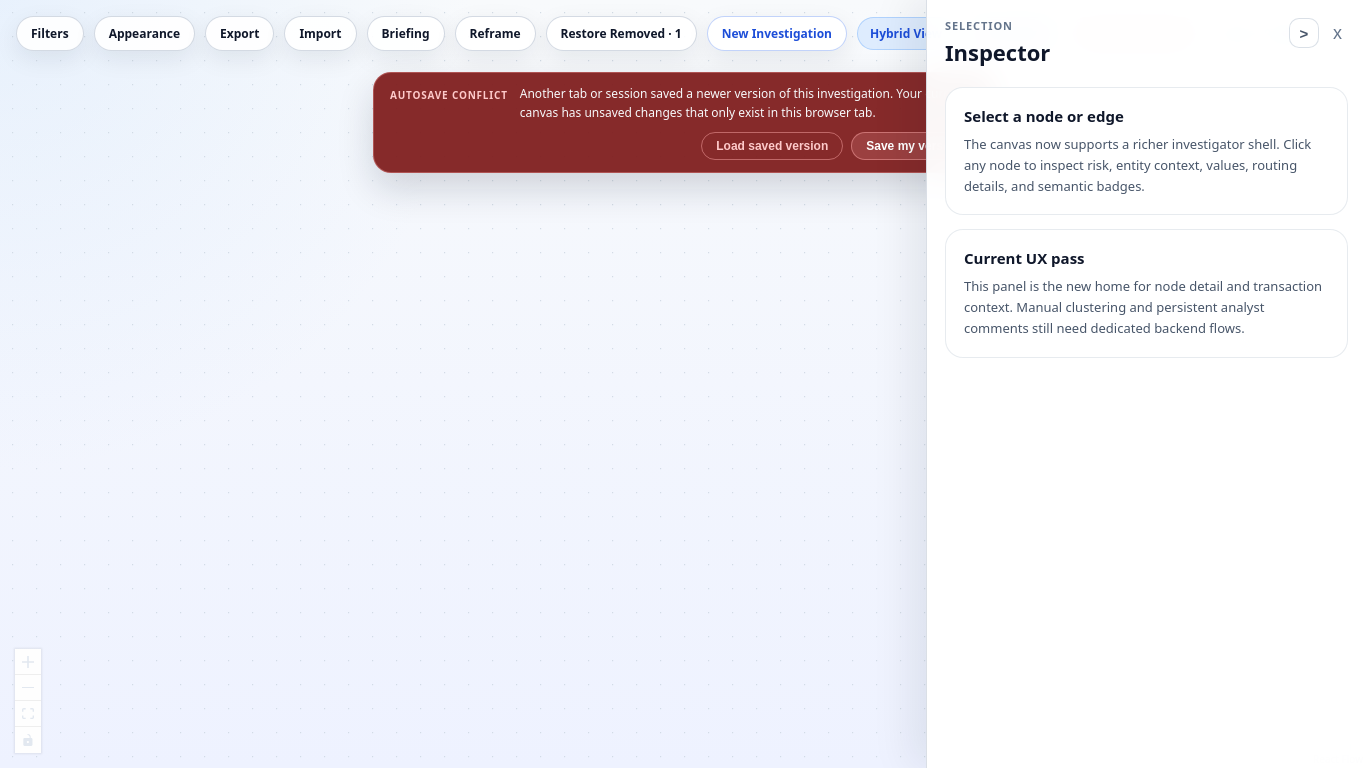
Test: InvestigationGraph backend autosave › recovers via force-save: fetches server revision, saves current state, and resumes autosave
Click the button "Save my version" at {"x": 914, "y": 146}, box [851,132,976,160]
Wait 350 ms
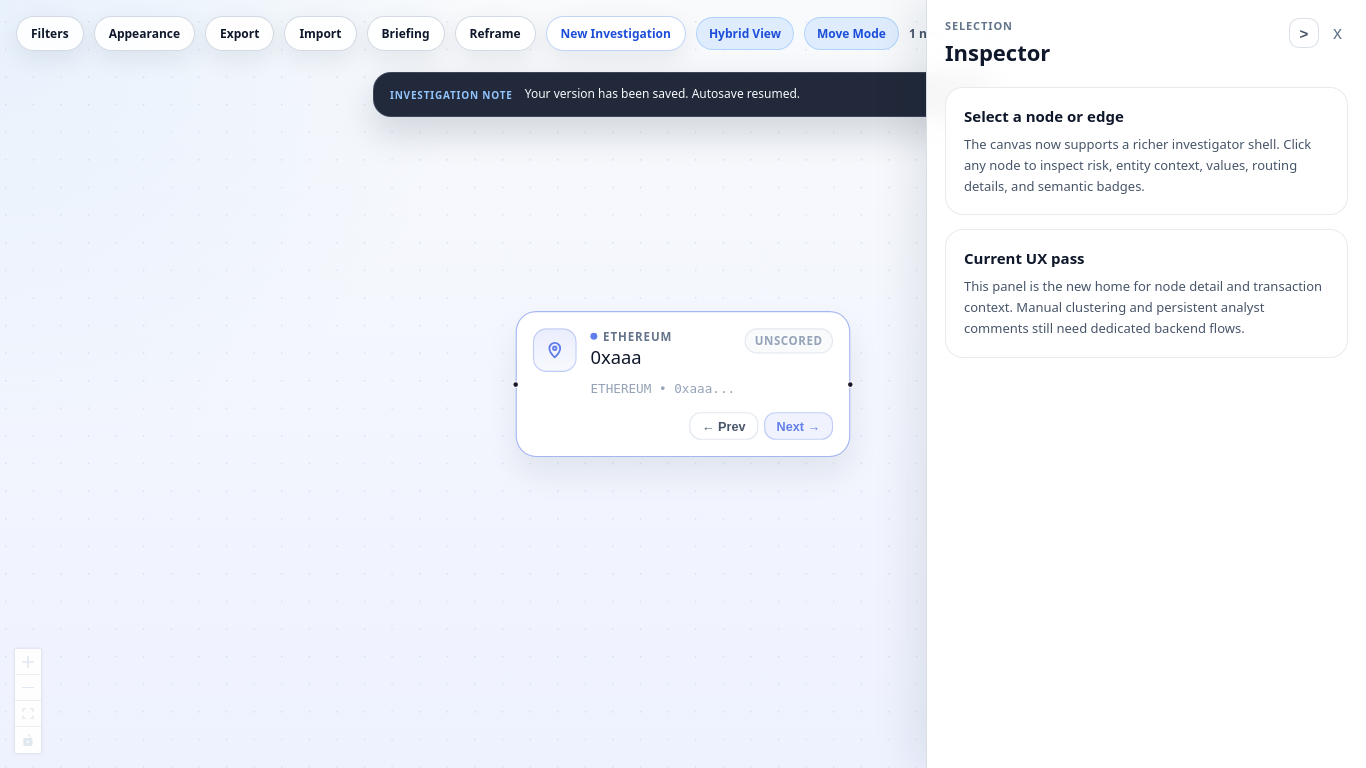
Check: the text "Autosave paused" is not shown
Check: the text "Autosave conflict" is gone
Check: the text "Autosave resumed" is shown, box [525,85,800,102]
